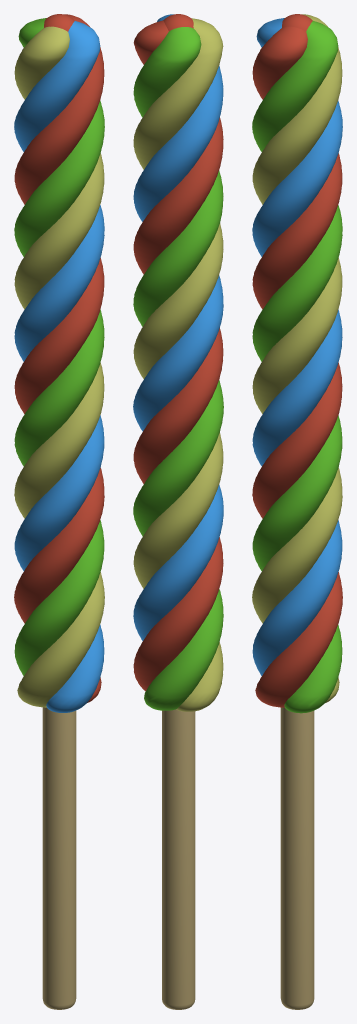
The model's file is candy_asset.fbx.
3 views of the same model, side by side, from view 1: azimuth 90°, elevation 25°; view 2: azimuth 210°, elevation 25°; view 3: azimuth 270°, elevation 25° (orthographic).
Parts seen in each view (by area): view 1: pCylinder4.002; view 2: pCylinder4.002; view 3: pCylinder4.002.
Boxes of the visible parts, x1,y1,x2,y2 form: pCylinder4.002: [14, 14, 104, 1009]; pCylinder4.002: [133, 14, 223, 1009]; pCylinder4.002: [252, 14, 342, 1009].
Size of the model in its own units: 9.35 by 112 by 9.36.
